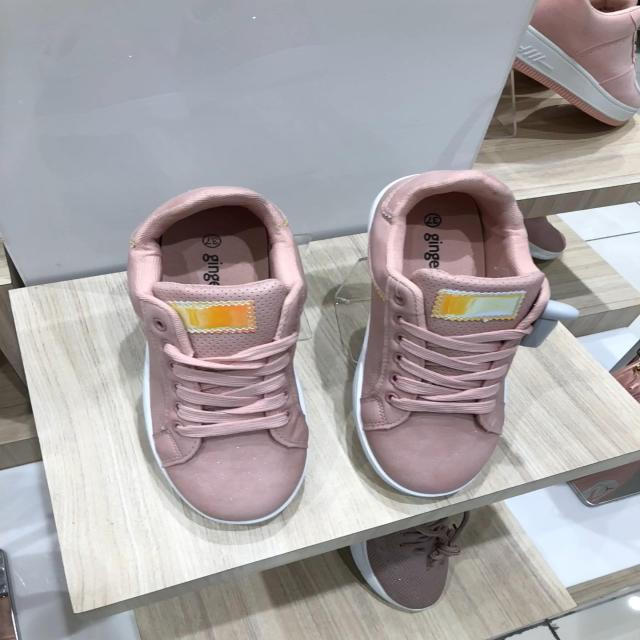shoe: (126, 197, 309, 527), (359, 172, 550, 486)
